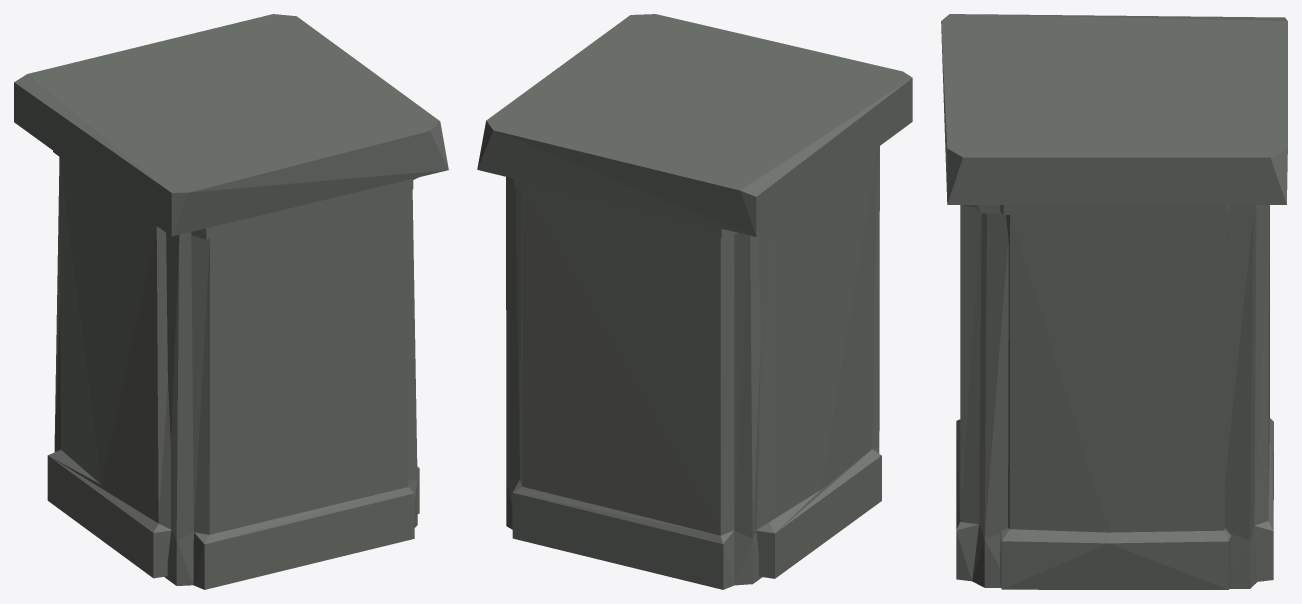
The model's file is MCastle_Balusters_Column_01.FBX.
The picture shows the model from 3 angles, left to right: view 1: azimuth 30°, elevation 25°; view 2: azimuth 150°, elevation 25°; view 3: azimuth 270°, elevation 25°; orthographic projection. The views are drawn at different scales.
Parts seen in each view (by area): view 1: MCastle_Balusters_Column_01_LOD0; view 2: MCastle_Balusters_Column_01_LOD0; view 3: MCastle_Balusters_Column_01_LOD0.
Boxes of the visible parts, left/top/right/bottom form: MCastle_Balusters_Column_01_LOD0: left=14, top=14, right=448, bottom=589; MCastle_Balusters_Column_01_LOD0: left=477, top=14, right=912, bottom=589; MCastle_Balusters_Column_01_LOD0: left=941, top=14, right=1287, bottom=589.
Size of what is drawn, in the model's own units: 1.04 by 1.47 by 1.06.
